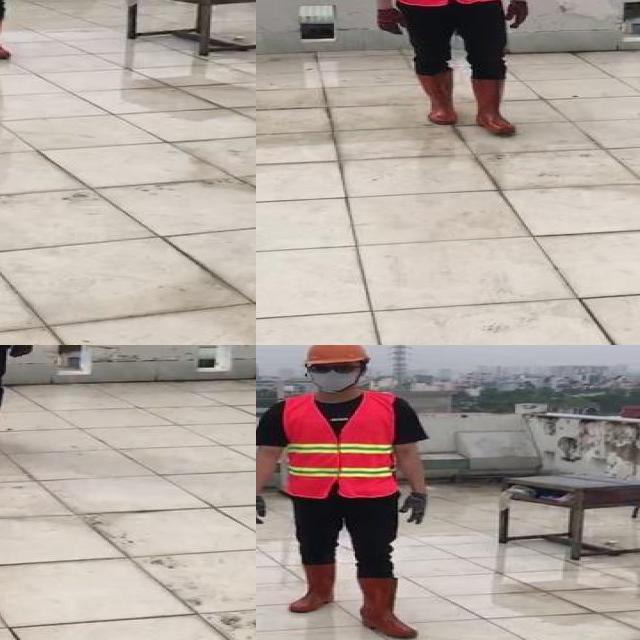boots: (361, 575, 432, 638), (286, 563, 340, 615), (469, 78, 514, 134), (414, 70, 457, 125), (0, 16, 16, 58)
face_mask: (309, 362, 362, 391)
glasses: (306, 364, 365, 376)
hand_glove: (399, 492, 434, 523), (499, 0, 529, 30), (377, 7, 407, 36), (7, 345, 32, 359), (256, 495, 267, 525)
head_helmet: (299, 345, 370, 366)
person: (256, 345, 432, 640), (359, 0, 537, 141)
vest: (279, 392, 401, 498)
